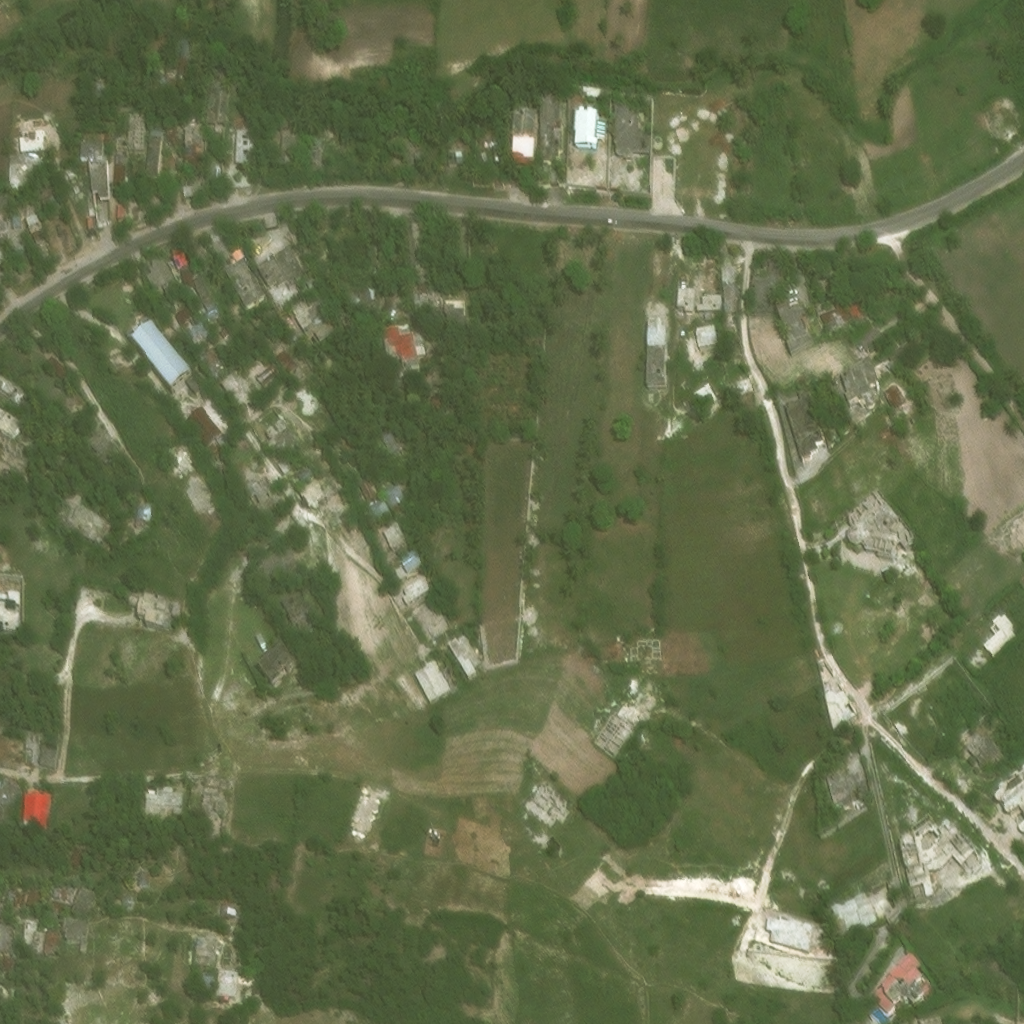major_damage: (525, 795, 575, 832), (6, 152, 43, 183), (58, 509, 98, 535), (42, 927, 60, 947), (23, 918, 33, 937)
minor_damage: (71, 581, 183, 633), (847, 501, 921, 567), (861, 971, 937, 1023), (220, 242, 269, 306), (838, 372, 885, 430), (251, 236, 310, 282), (790, 397, 827, 464), (381, 321, 425, 368), (781, 311, 819, 360), (538, 98, 568, 160), (257, 552, 311, 585), (80, 145, 111, 201), (181, 397, 222, 439), (146, 790, 187, 830), (292, 295, 331, 334), (262, 652, 300, 690), (513, 118, 541, 169), (822, 760, 862, 792), (646, 322, 668, 380), (963, 721, 995, 751), (144, 127, 162, 172), (126, 113, 146, 152), (0, 376, 25, 404), (0, 409, 23, 439), (232, 125, 253, 154), (265, 425, 291, 444), (890, 395, 911, 418), (445, 310, 468, 331), (379, 424, 399, 448), (200, 935, 217, 962), (43, 894, 68, 911), (247, 230, 272, 247), (112, 152, 126, 182), (219, 896, 238, 918), (36, 731, 54, 754), (722, 279, 739, 303), (356, 280, 375, 301), (386, 481, 405, 501), (187, 319, 208, 336), (50, 884, 73, 899), (821, 306, 841, 322), (25, 212, 41, 232), (183, 143, 199, 161), (40, 185, 59, 200), (420, 291, 440, 305), (824, 315, 843, 328), (401, 212, 414, 231), (368, 501, 384, 516), (136, 513, 147, 534), (186, 127, 200, 143), (299, 469, 315, 483), (430, 385, 442, 403), (443, 300, 464, 310), (552, 845, 566, 859), (165, 131, 180, 144), (114, 896, 130, 908), (791, 304, 807, 316), (443, 293, 464, 300), (27, 250, 39, 262), (18, 201, 31, 212), (228, 943, 240, 954), (114, 198, 123, 212), (26, 882, 39, 891), (402, 369, 414, 378), (12, 216, 21, 227), (143, 508, 153, 517), (360, 483, 369, 492), (415, 278, 425, 286), (456, 151, 463, 161), (299, 292, 307, 300), (63, 164, 70, 169), (27, 174, 32, 180)
no_damage: (612, 108, 650, 153), (143, 250, 174, 285), (576, 113, 606, 145), (71, 888, 99, 920), (0, 770, 17, 817), (894, 348, 919, 373), (274, 346, 299, 371), (862, 334, 888, 358), (65, 923, 94, 944), (201, 344, 222, 368), (4, 882, 24, 904), (279, 129, 297, 153), (171, 298, 193, 317), (209, 360, 229, 376), (849, 304, 864, 323), (65, 845, 80, 862), (257, 365, 274, 380), (179, 262, 193, 280), (85, 81, 99, 98), (203, 301, 218, 315), (0, 198, 8, 223), (81, 944, 90, 958), (177, 257, 189, 264), (752, 267, 760, 274)
unclassified: (0, 920, 12, 949), (279, 104, 297, 123), (402, 136, 414, 163), (310, 143, 322, 164), (87, 284, 100, 298), (232, 112, 243, 122), (165, 79, 170, 87)
